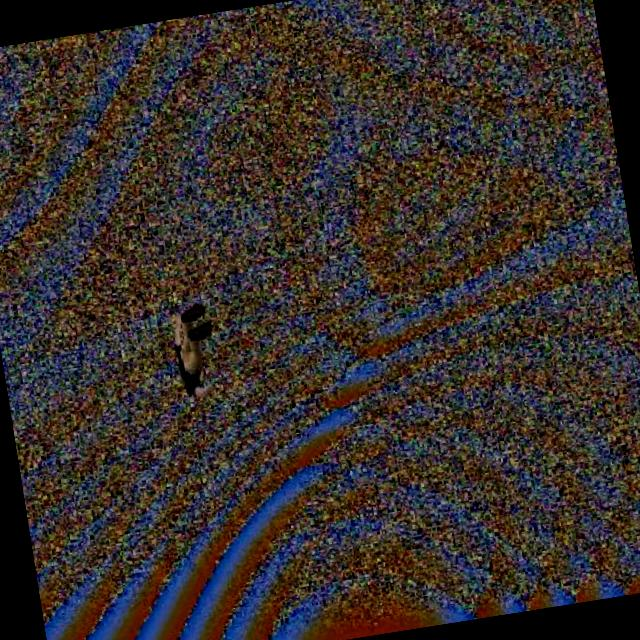Person: (162, 296, 230, 410)
